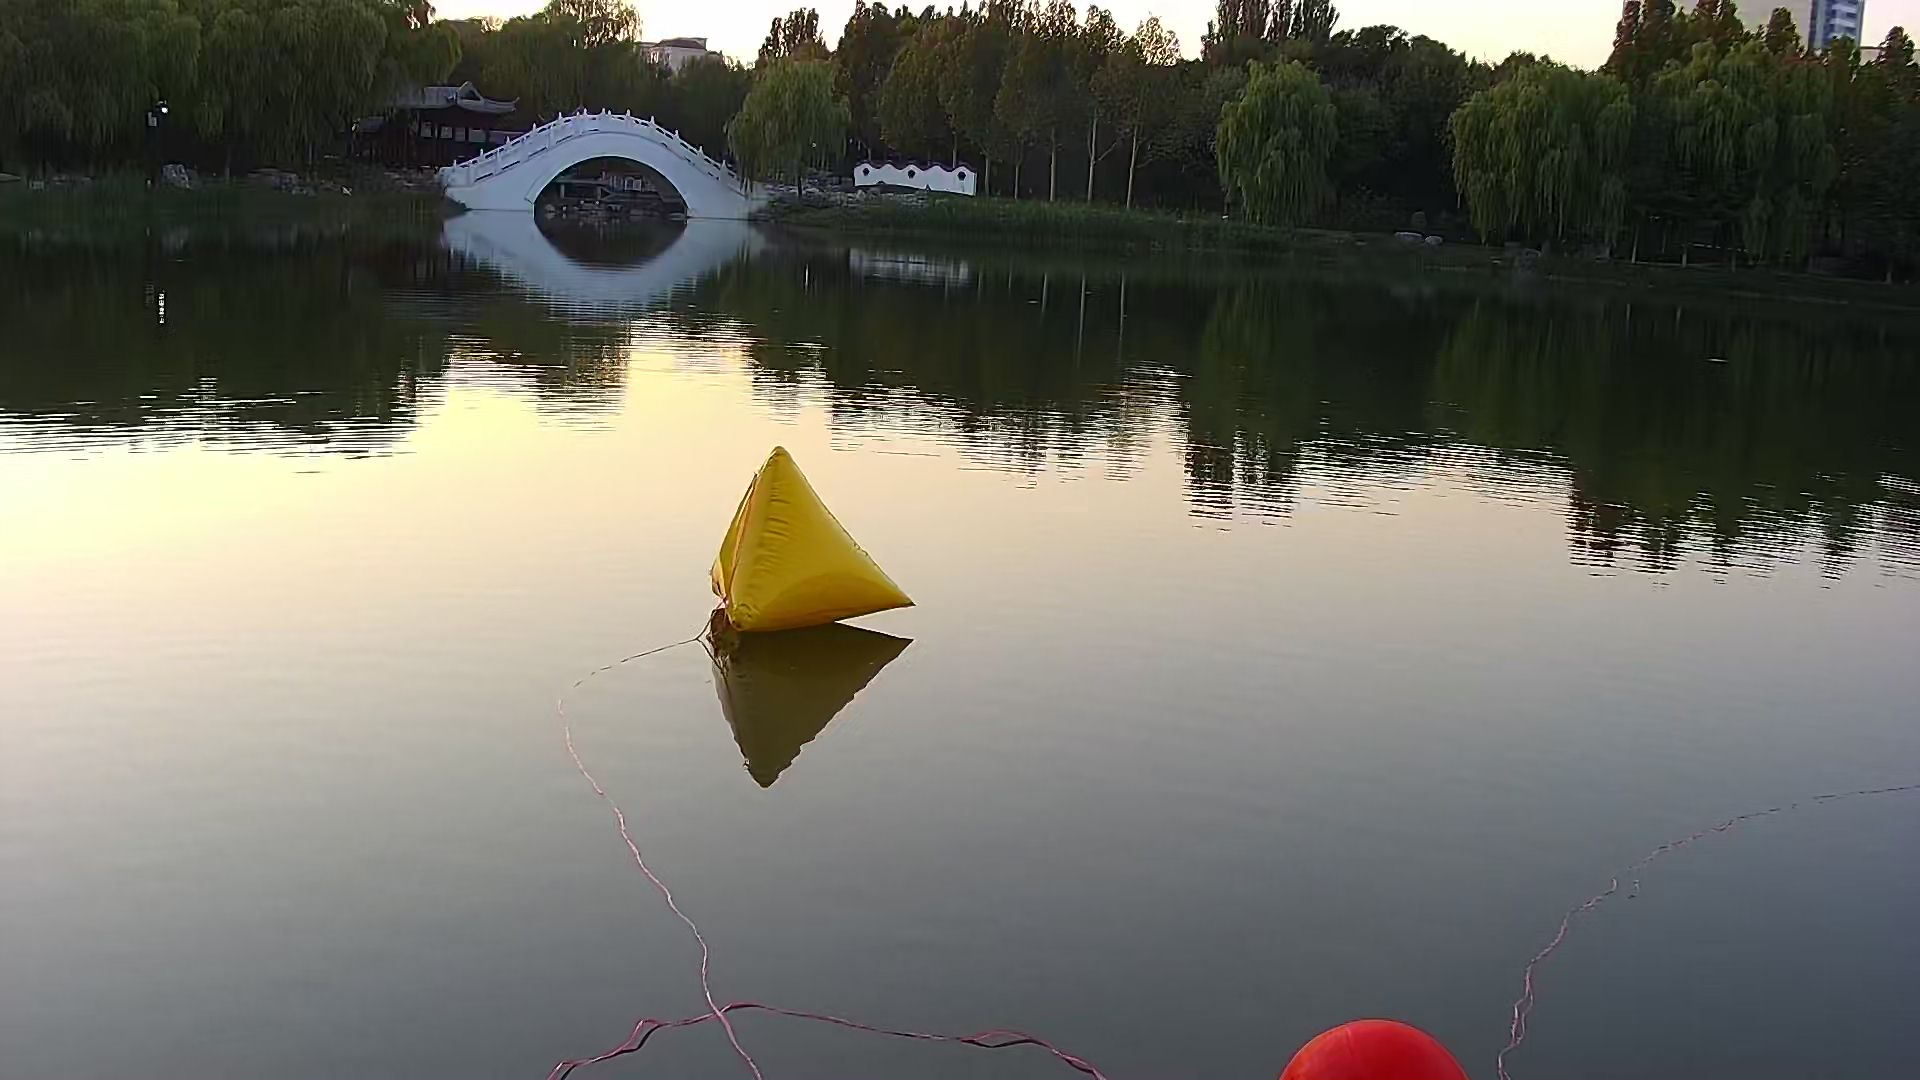rubbish: (695, 436, 918, 646)
